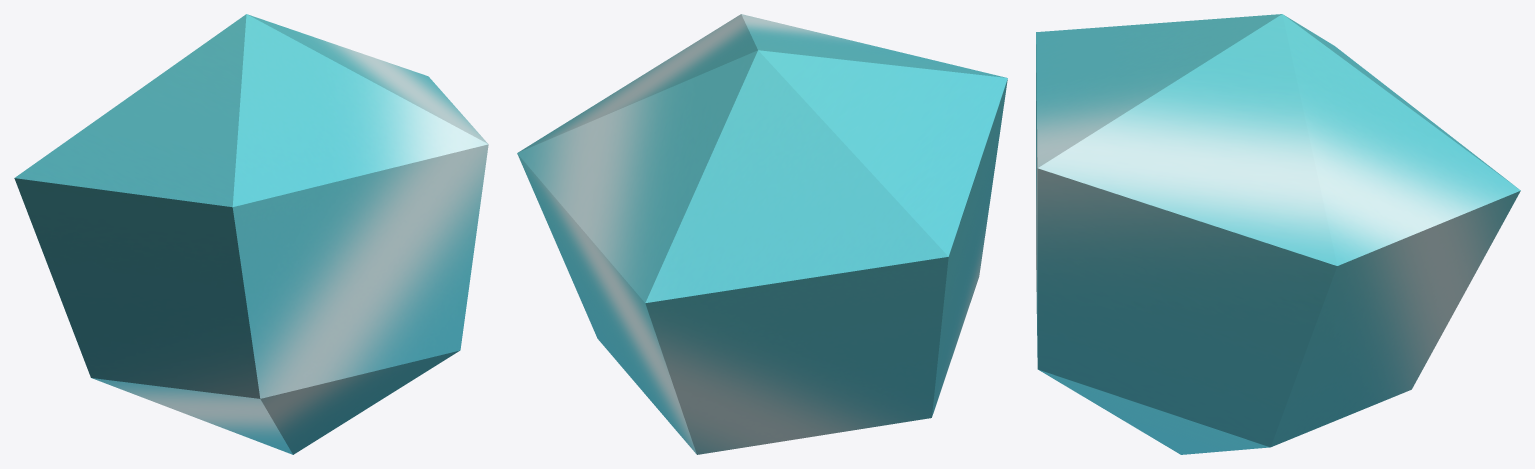
Rendered from Mythill_5.glb.
3 views of the same model, side by side, from view 1: azimuth 30°, elevation 25°; view 2: azimuth 150°, elevation 25°; view 3: azimuth 270°, elevation 25° (orthographic). The views are drawn at different scales.
Parts seen in each view (by area): view 1: Mythrill5; view 2: Mythrill5; view 3: Mythrill5.
Boxes of the visible parts, left/top/right/bottom form: Mythrill5: left=14, top=14, right=488, bottom=454; Mythrill5: left=517, top=14, right=1007, bottom=454; Mythrill5: left=1036, top=14, right=1520, bottom=454.
Bounding box in the file's own units: 0.3287 × 0.3076 × 0.3065.
Materials: 1 (1 with a texture image).
